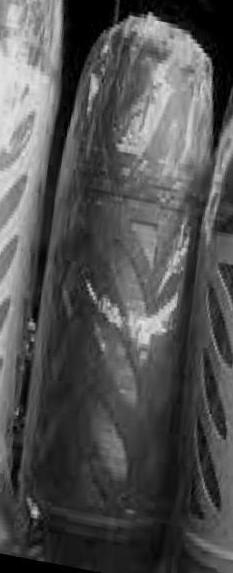cylinder: (1, 1, 233, 573)
